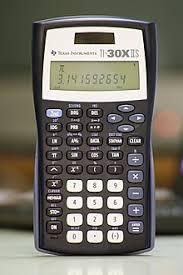Calculator: (22, 11, 168, 268)
